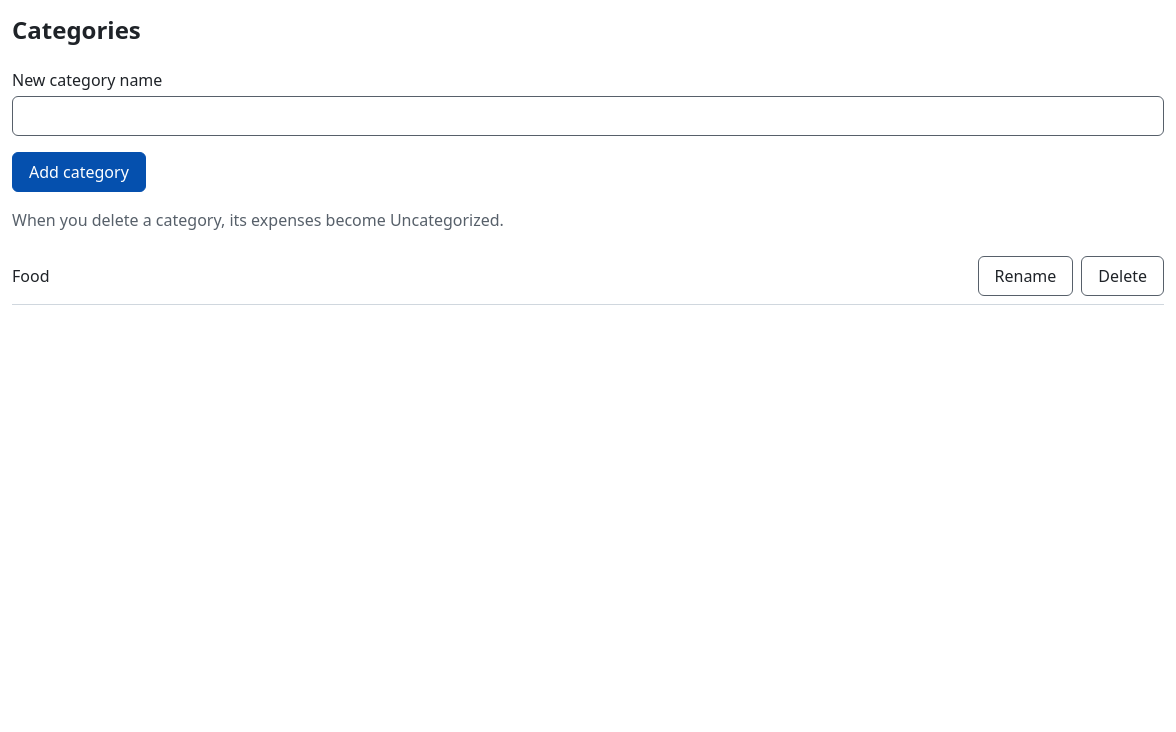
Test case: CategoriesView: rename › shows a failed Reload as a message and keeps editing
Click the button "Rename" at (1025, 276), box [978,256,1073,296]
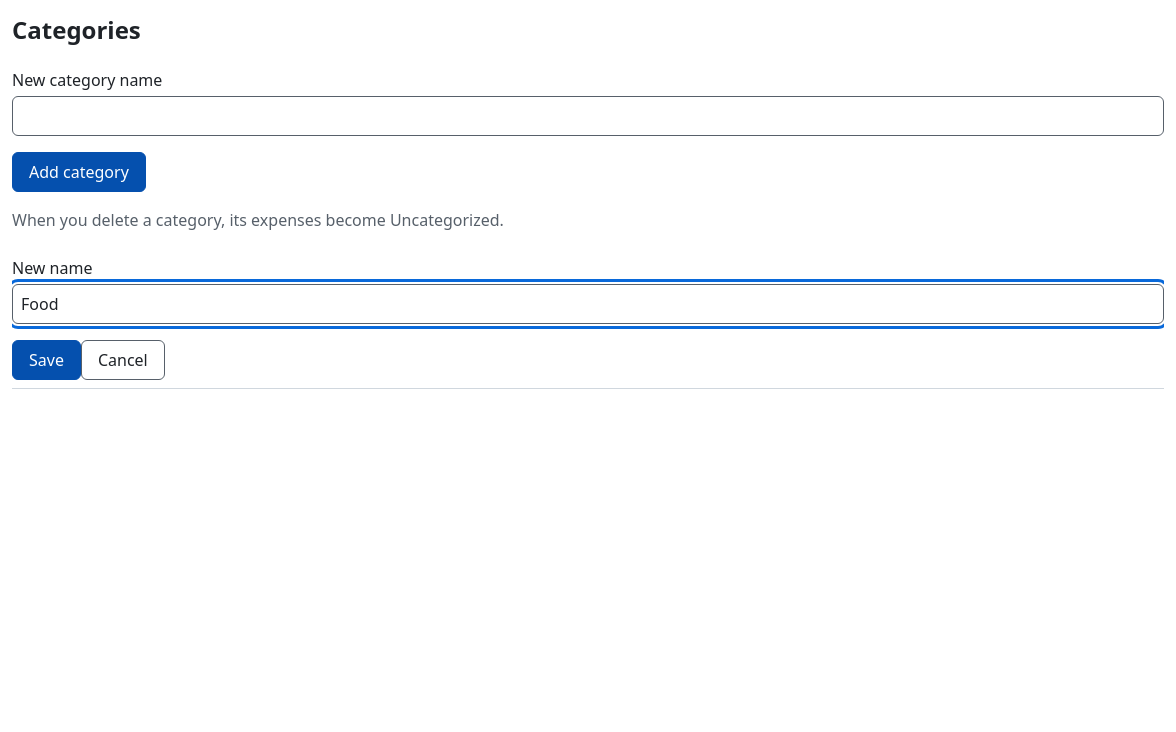
Replace the text in the field with id "rename-c1-name" with "Meals" at (588, 304), box [12,284,1164,324]
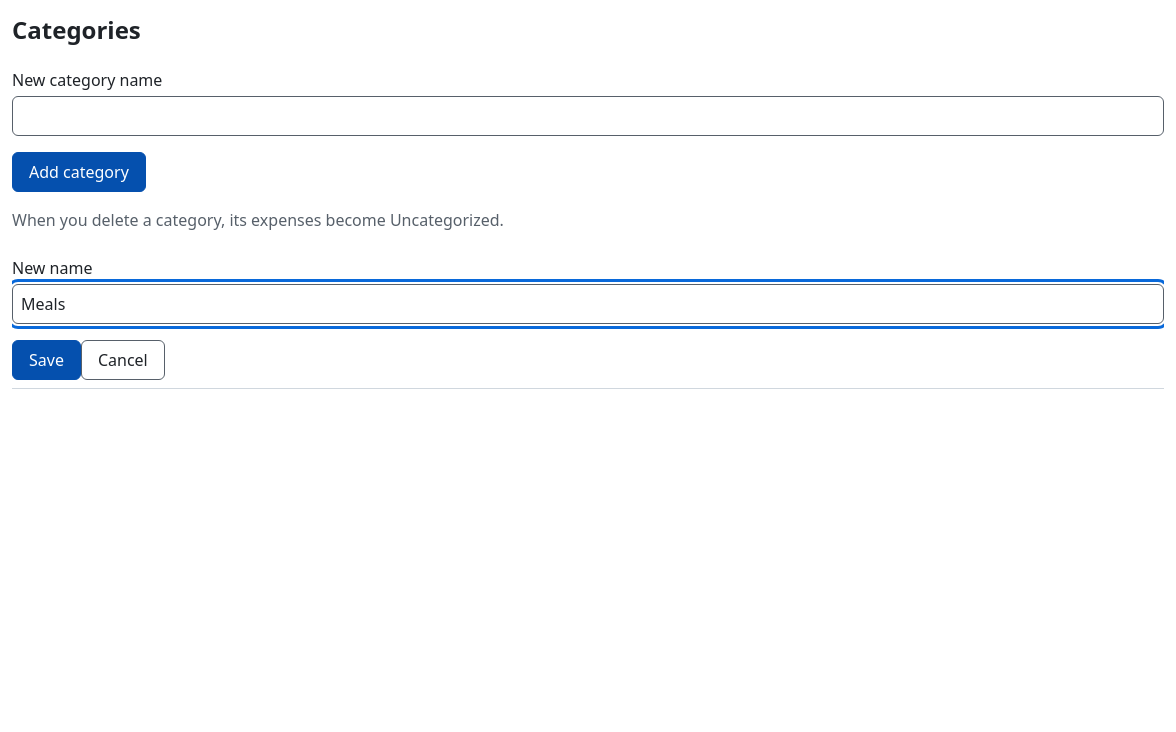
Submit the form "New name Save Cancel", box [12,256,1164,380]
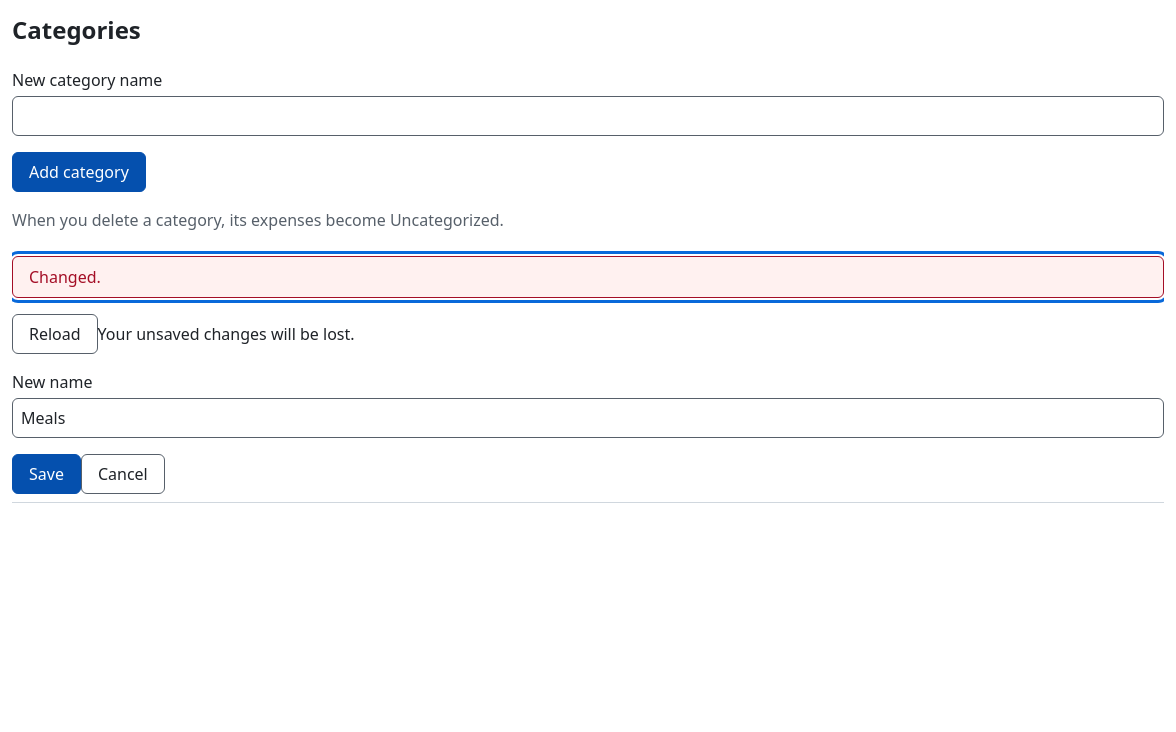
Click the button "Reload" at (55, 334), box [12,314,98,354]
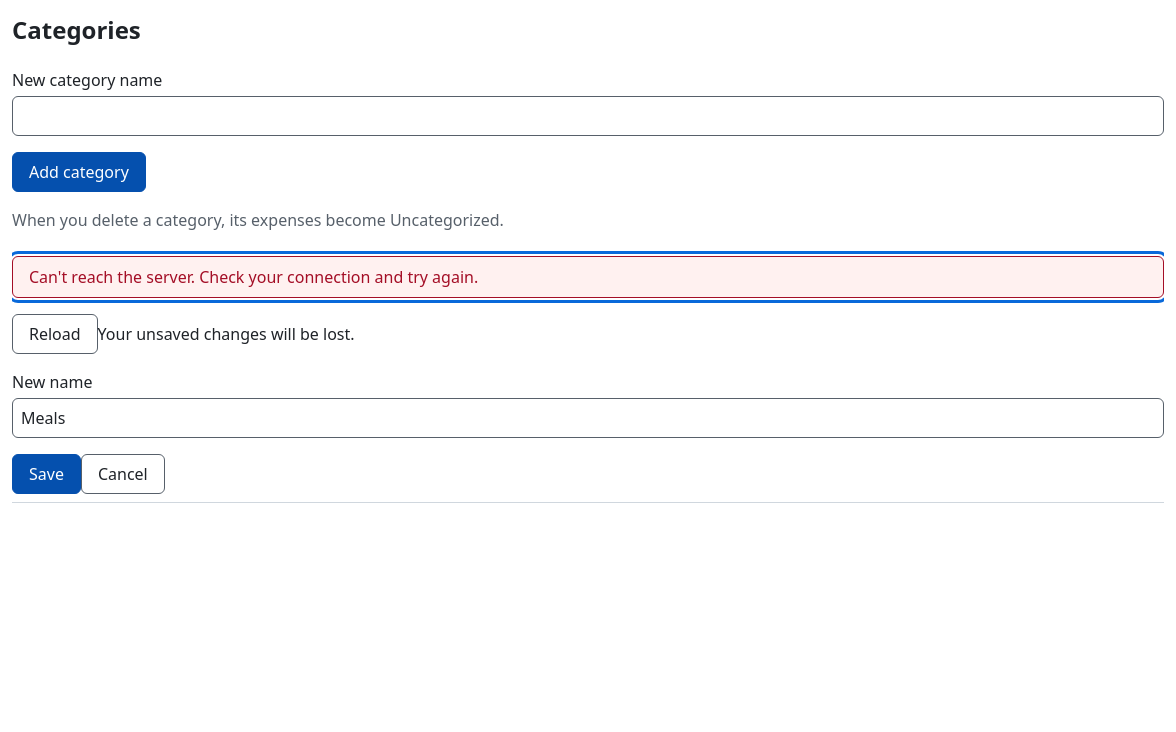
Now the message "Can't reach the server. Check your connection and try again." is shown, box [12,256,1164,298]
